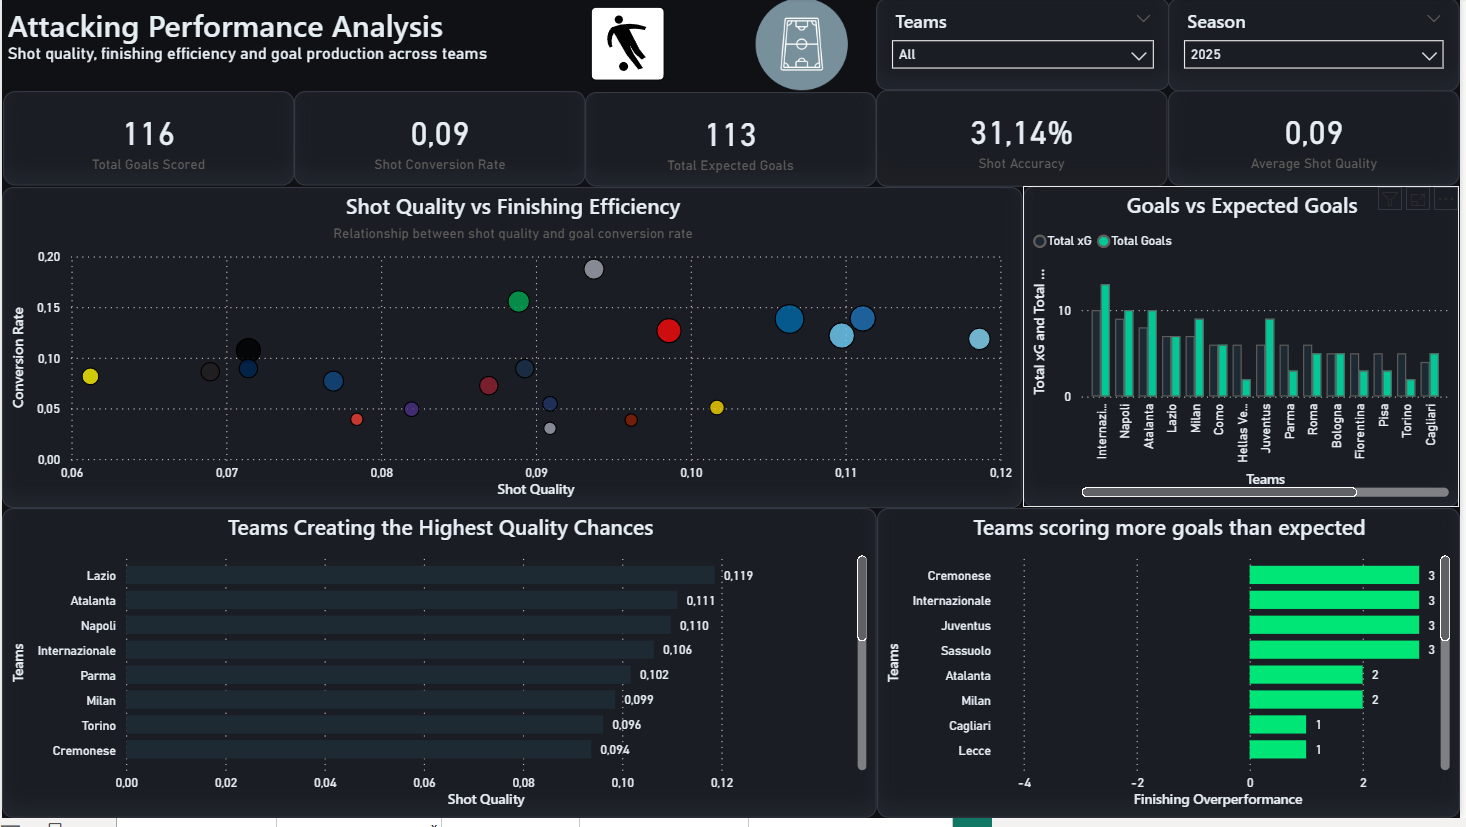

What the dashboard file says about the page in this screenshot:
{"tool":"powerbi","page":{"name":"Offensive Performance","canvas":[1280,720],"ordinal":1},"visuals":[{"type":"card","fields":{"Values":["matches_seriea.Total Goals"]},"box":[0.9,81.7,255.5,83.4],"z":0},{"type":"card","fields":{"Values":["matches_seriea.Total xG"]},"box":[511.9,82.5,255.5,83.4],"z":1000},{"type":"card","fields":{"Values":["matches_seriea.Shot Quality"]},"box":[1023.8,80.8,256.4,84.3],"z":2000},{"type":"card","fields":{"Values":["matches_seriea.Conversion Rate M"]},"box":[256.4,81.7,256.4,83.4],"z":3000},{"type":"card","fields":{"Values":["matches_seriea.Shot Accuracy M"]},"box":[767.4,80.7,255.8,84.6],"z":4000},{"type":"clusteredColumnChart","title":"Goals vs Expected Goals","fields":{"Y":["matches_seriea.Total xG","matches_seriea.Total Goals"],"Category":["matches_seriea.team"]},"box":[896.5,165.1,382.8,281.9],"z":5000},{"type":"barChart","title":"Teams Creating the Highest Quality Chances","fields":{"Category":["matches_seriea.team"],"Y":["matches_seriea.Shot Quality"]},"box":[0,447.8,768.3,272.2],"z":6000},{"type":"scatterChart","title":"Shot Quality vs Finishing Efficiency","fields":{"X":["matches_seriea.Shot Quality"],"Y":["matches_seriea.Conversion Rate M"],"Size":["matches_seriea.Total Goals"],"Category":["SERIE A LOGOS - Foglio1 (1).Team"]},"box":[0,166,895.6,281.9],"z":7000},{"type":"barChart","title":"Teams scoring more goals than expected","fields":{"Category":["matches_seriea.team"],"Y":["matches_seriea.Finishing Overperformance"]},"box":[768.3,447.8,511.9,272.2],"z":8000},{"type":"slicer","fields":{"Values":["matches_seriea.team"]},"box":[767.4,0,257.8,80.7],"z":9000},{"type":"slicer","fields":{"Values":["matches_seriea.season"]},"box":[1023.8,0,256.4,81.7],"z":10000},{"type":"textbox","box":[0,0,447.4,81.7],"z":11000},{"type":"image","box":[640,1.9,132.3,80.7],"z":12000},{"type":"image","box":[511.6,2.9,74.9,75.9],"z":13000}]}

Visuals, with their boxes in screenshot pixels (x1, y1, x2, y2), scaled from the page's 1280x720 canvas onto the 1466x827 screenshot:
card - matches_seriea.Total Goals: bbox=[1, 94, 294, 190]
card - matches_seriea.Total xG: bbox=[586, 95, 879, 191]
card - matches_seriea.Shot Quality: bbox=[1173, 93, 1465, 190]
card - matches_seriea.Conversion Rate M: bbox=[294, 94, 587, 190]
card - matches_seriea.Shot Accuracy M: bbox=[879, 93, 1172, 190]
"Goals vs Expected Goals" clusteredColumnChart: bbox=[1027, 190, 1465, 513]
"Teams Creating the Highest Quality Chances" barChart: bbox=[0, 514, 880, 826]
"Shot Quality vs Finishing Efficiency" scatterChart: bbox=[0, 191, 1026, 514]
"Teams scoring more goals than expected" barChart: bbox=[880, 514, 1465, 826]
slicer - matches_seriea.team: bbox=[879, 0, 1174, 93]
slicer - matches_seriea.season: bbox=[1173, 0, 1465, 94]
textbox: bbox=[0, 0, 512, 94]
image: bbox=[733, 2, 885, 95]
image: bbox=[586, 3, 672, 91]
